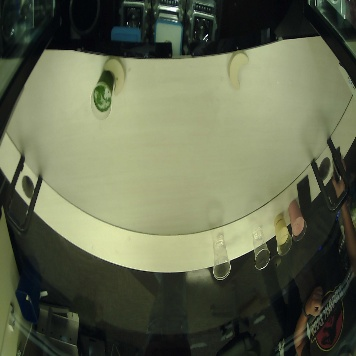empty_cup: (251, 225, 271, 269), (212, 234, 231, 280)
full_cup: (90, 70, 113, 120), (286, 200, 308, 241), (274, 210, 293, 257)
puck: (94, 53, 131, 94), (228, 52, 249, 91)
